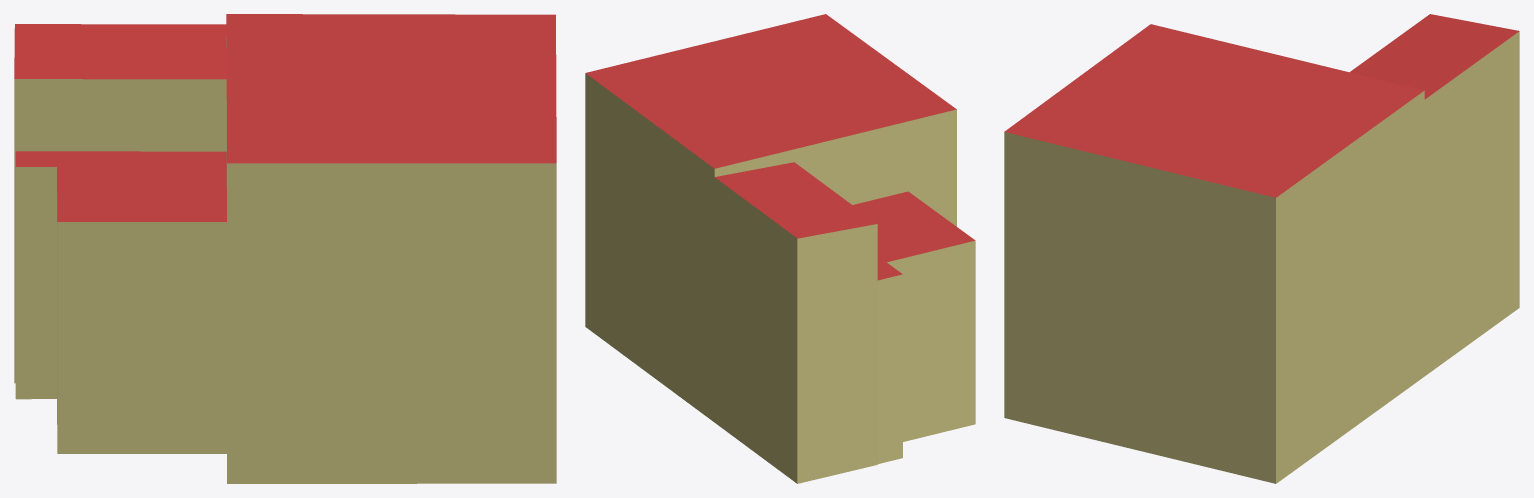
3 views of the same model, side by side, from view 1: azimuth 30°, elevation 25°; view 2: azimuth 150°, elevation 25°; view 3: azimuth 270°, elevation 25° (orthographic). The views are drawn at different scales.
Bounding box in the file's own units: 16.87 × 17.02 × 10.42.
